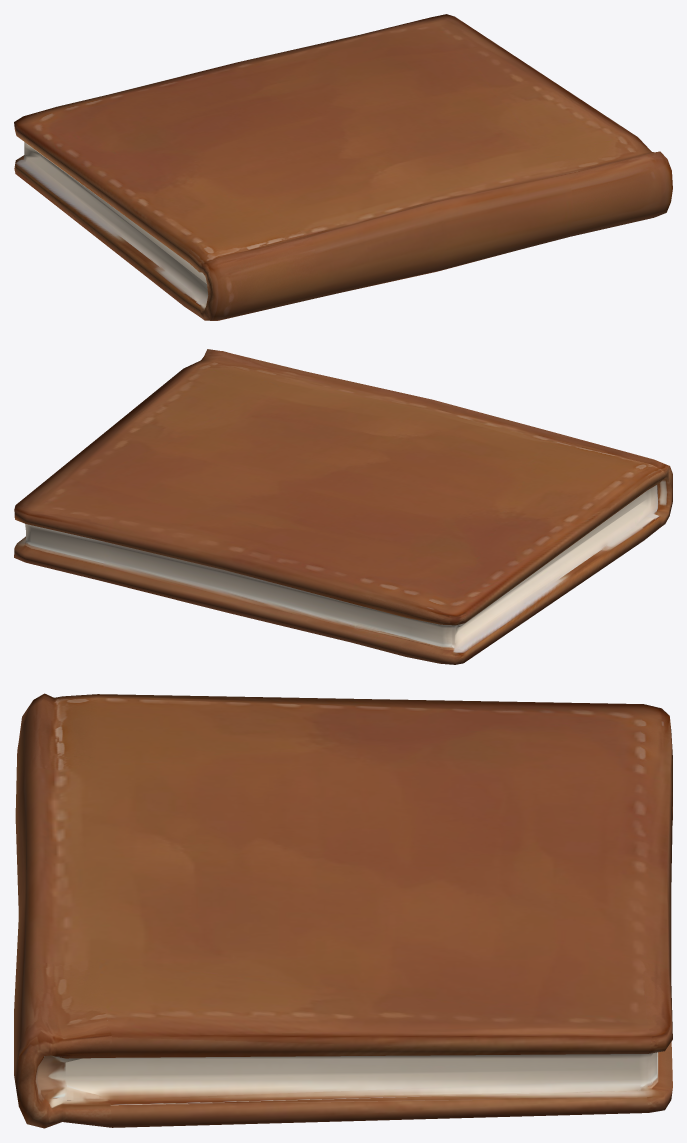
The model's file is tripo_convert_de58bc18-82e4-486c-bc07-1e6cf663322a.fbx.
3 views of the same model, one above another, from view 1: azimuth 30°, elevation 25°; view 2: azimuth 150°, elevation 25°; view 3: azimuth 270°, elevation 25° (orthographic). The views are drawn at different scales.
Parts seen in each view (by area): view 1: tripo_node_de58bc18; view 2: tripo_node_de58bc18; view 3: tripo_node_de58bc18.
Part boxes in pixels (bbox=[...]): tripo_node_de58bc18: bbox=[14, 14, 672, 320]; tripo_node_de58bc18: bbox=[14, 349, 672, 664]; tripo_node_de58bc18: bbox=[14, 693, 672, 1128].
Size of the model in its own units: 79.85 by 12.03 by 63.91.
1 material, 1 textured.
